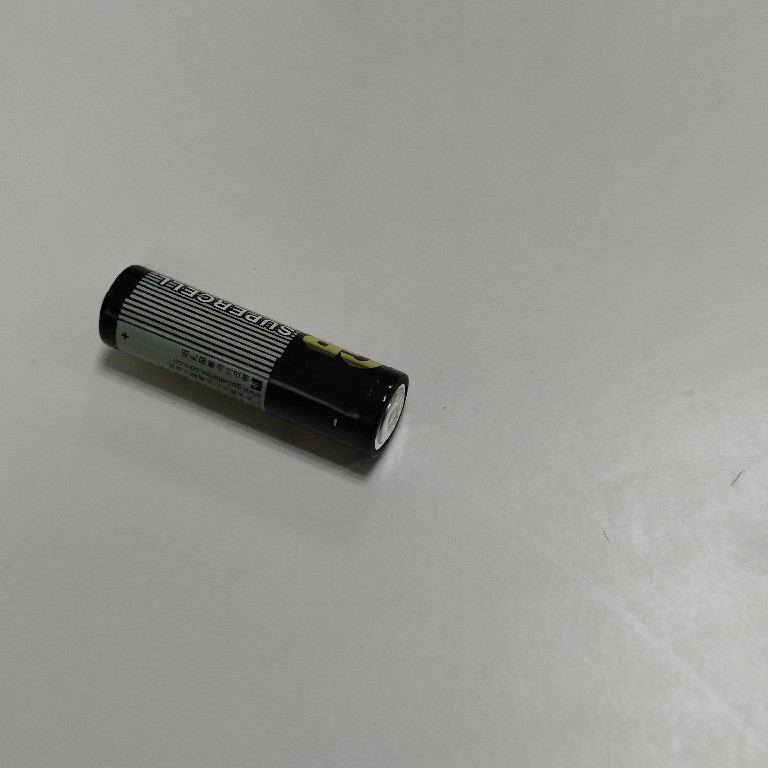charge: (92, 261, 411, 460)
